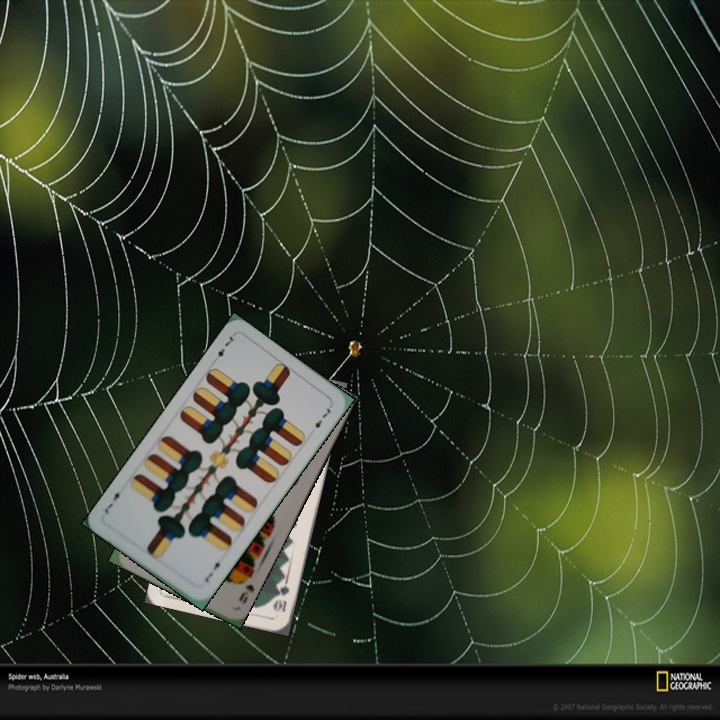E7: (208, 332, 238, 366), (201, 556, 226, 585)
G10: (270, 577, 292, 615)
S9: (235, 580, 256, 606)
